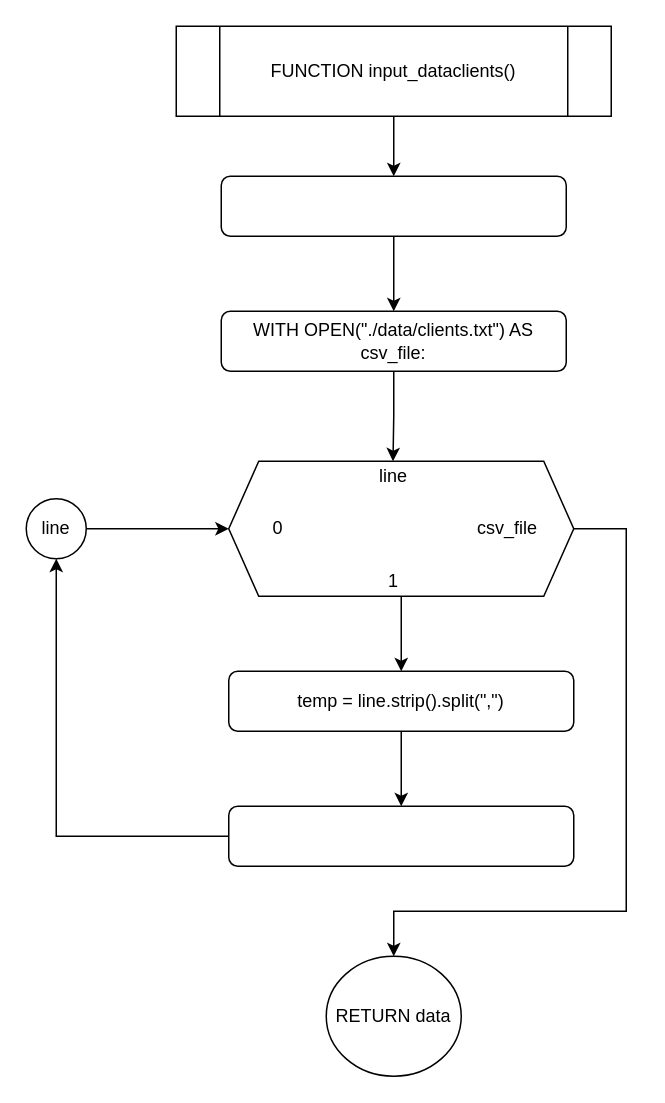
Some shapes in this 665 by 1103 pixel diagram are drawn without their labels. Here are the shapes that lost their labels. From the top down, the centre of each, then its label:
the point at 393,205: DECLARE data = []
the point at 400,835: APPEND temp TO data
